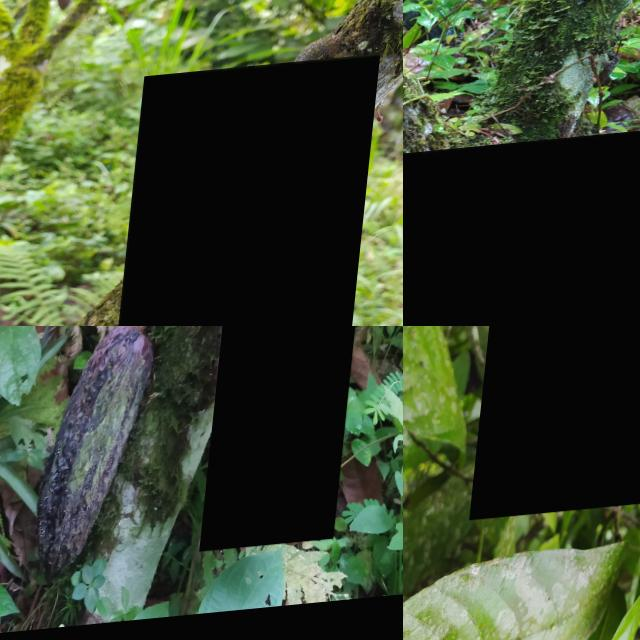Fitoftora: (112, 63, 384, 326), (211, 326, 375, 558), (42, 326, 166, 586)
Monilia: (403, 140, 640, 326), (479, 326, 640, 524)
